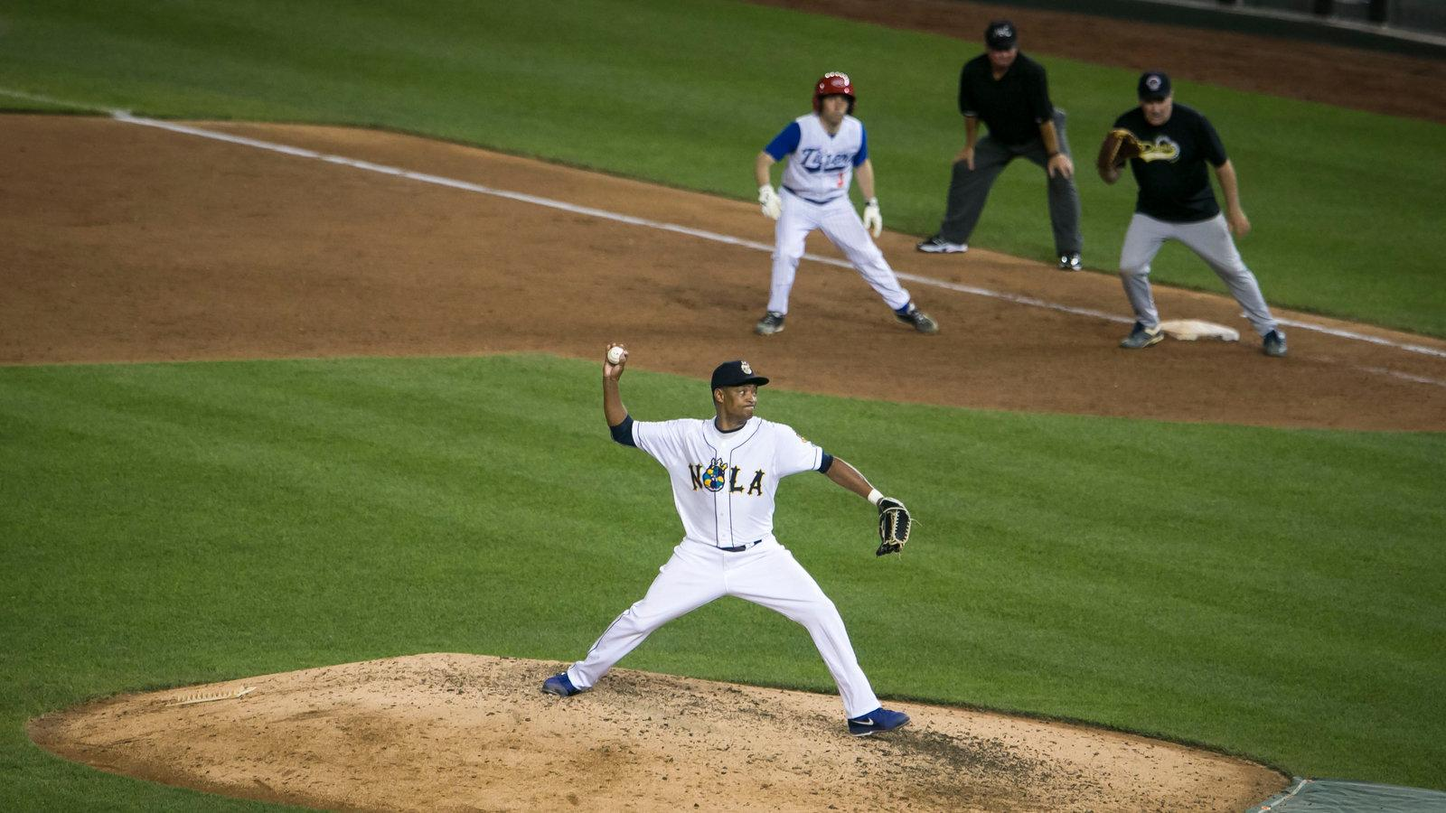baseball: (606, 346, 625, 365)
